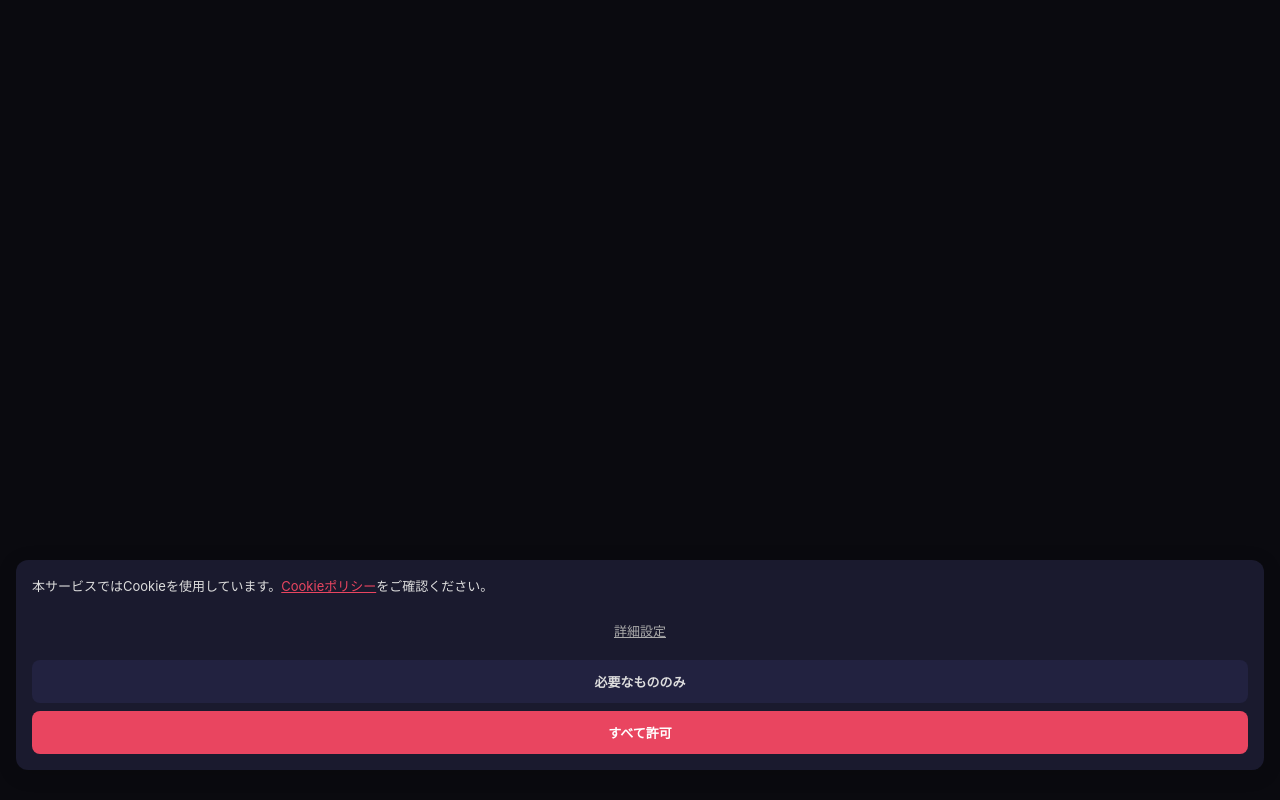
Test: CookieConsentBanner › 詳細設定をクリックすると詳細パネルが表示される
The width and height of the screenshot is (1280, 800).
Step 1. Click the button "詳細設定" → x=640, y=630, box [32,609,1248,652]
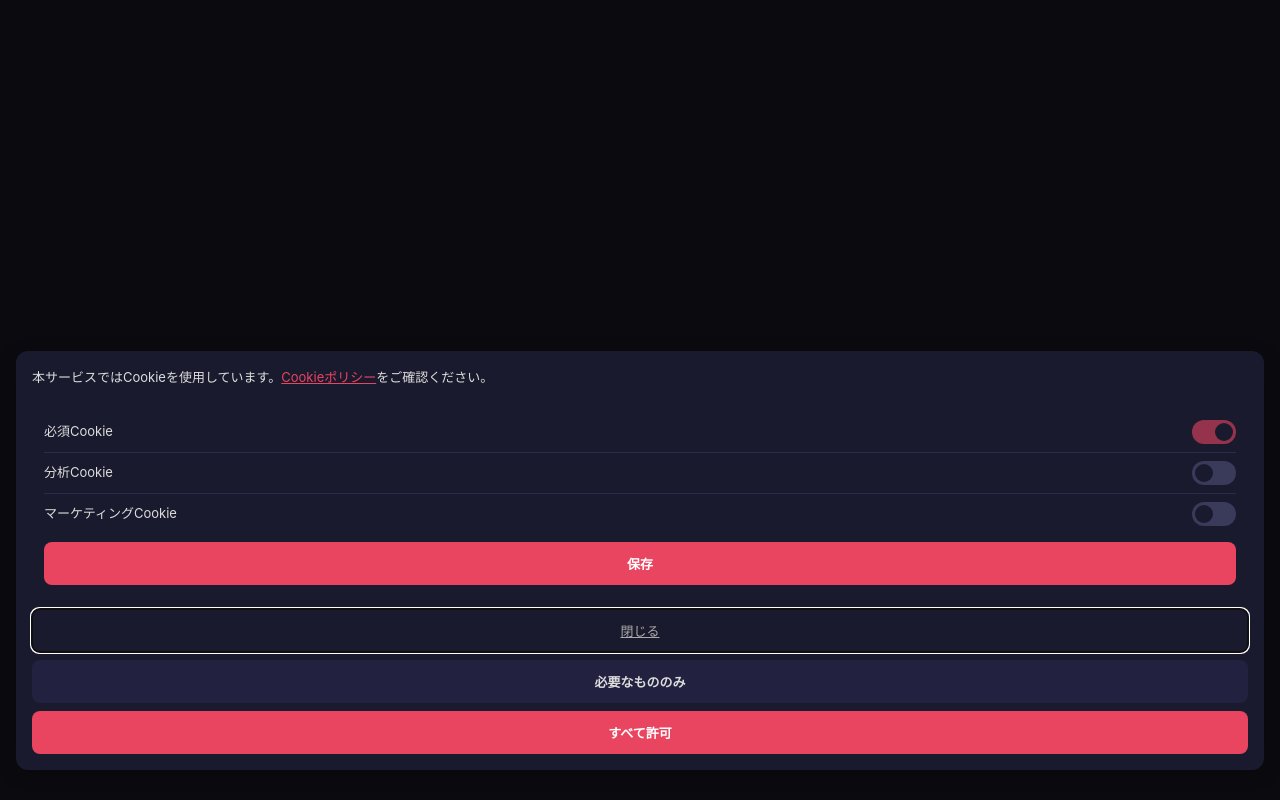
Expected: the text "必須Cookie" is shown, [44,422,113,442]
Expected: the text "分析Cookie" is shown, [44,463,113,483]
Expected: the text "マーケティングCookie" is shown, [44,504,177,524]
